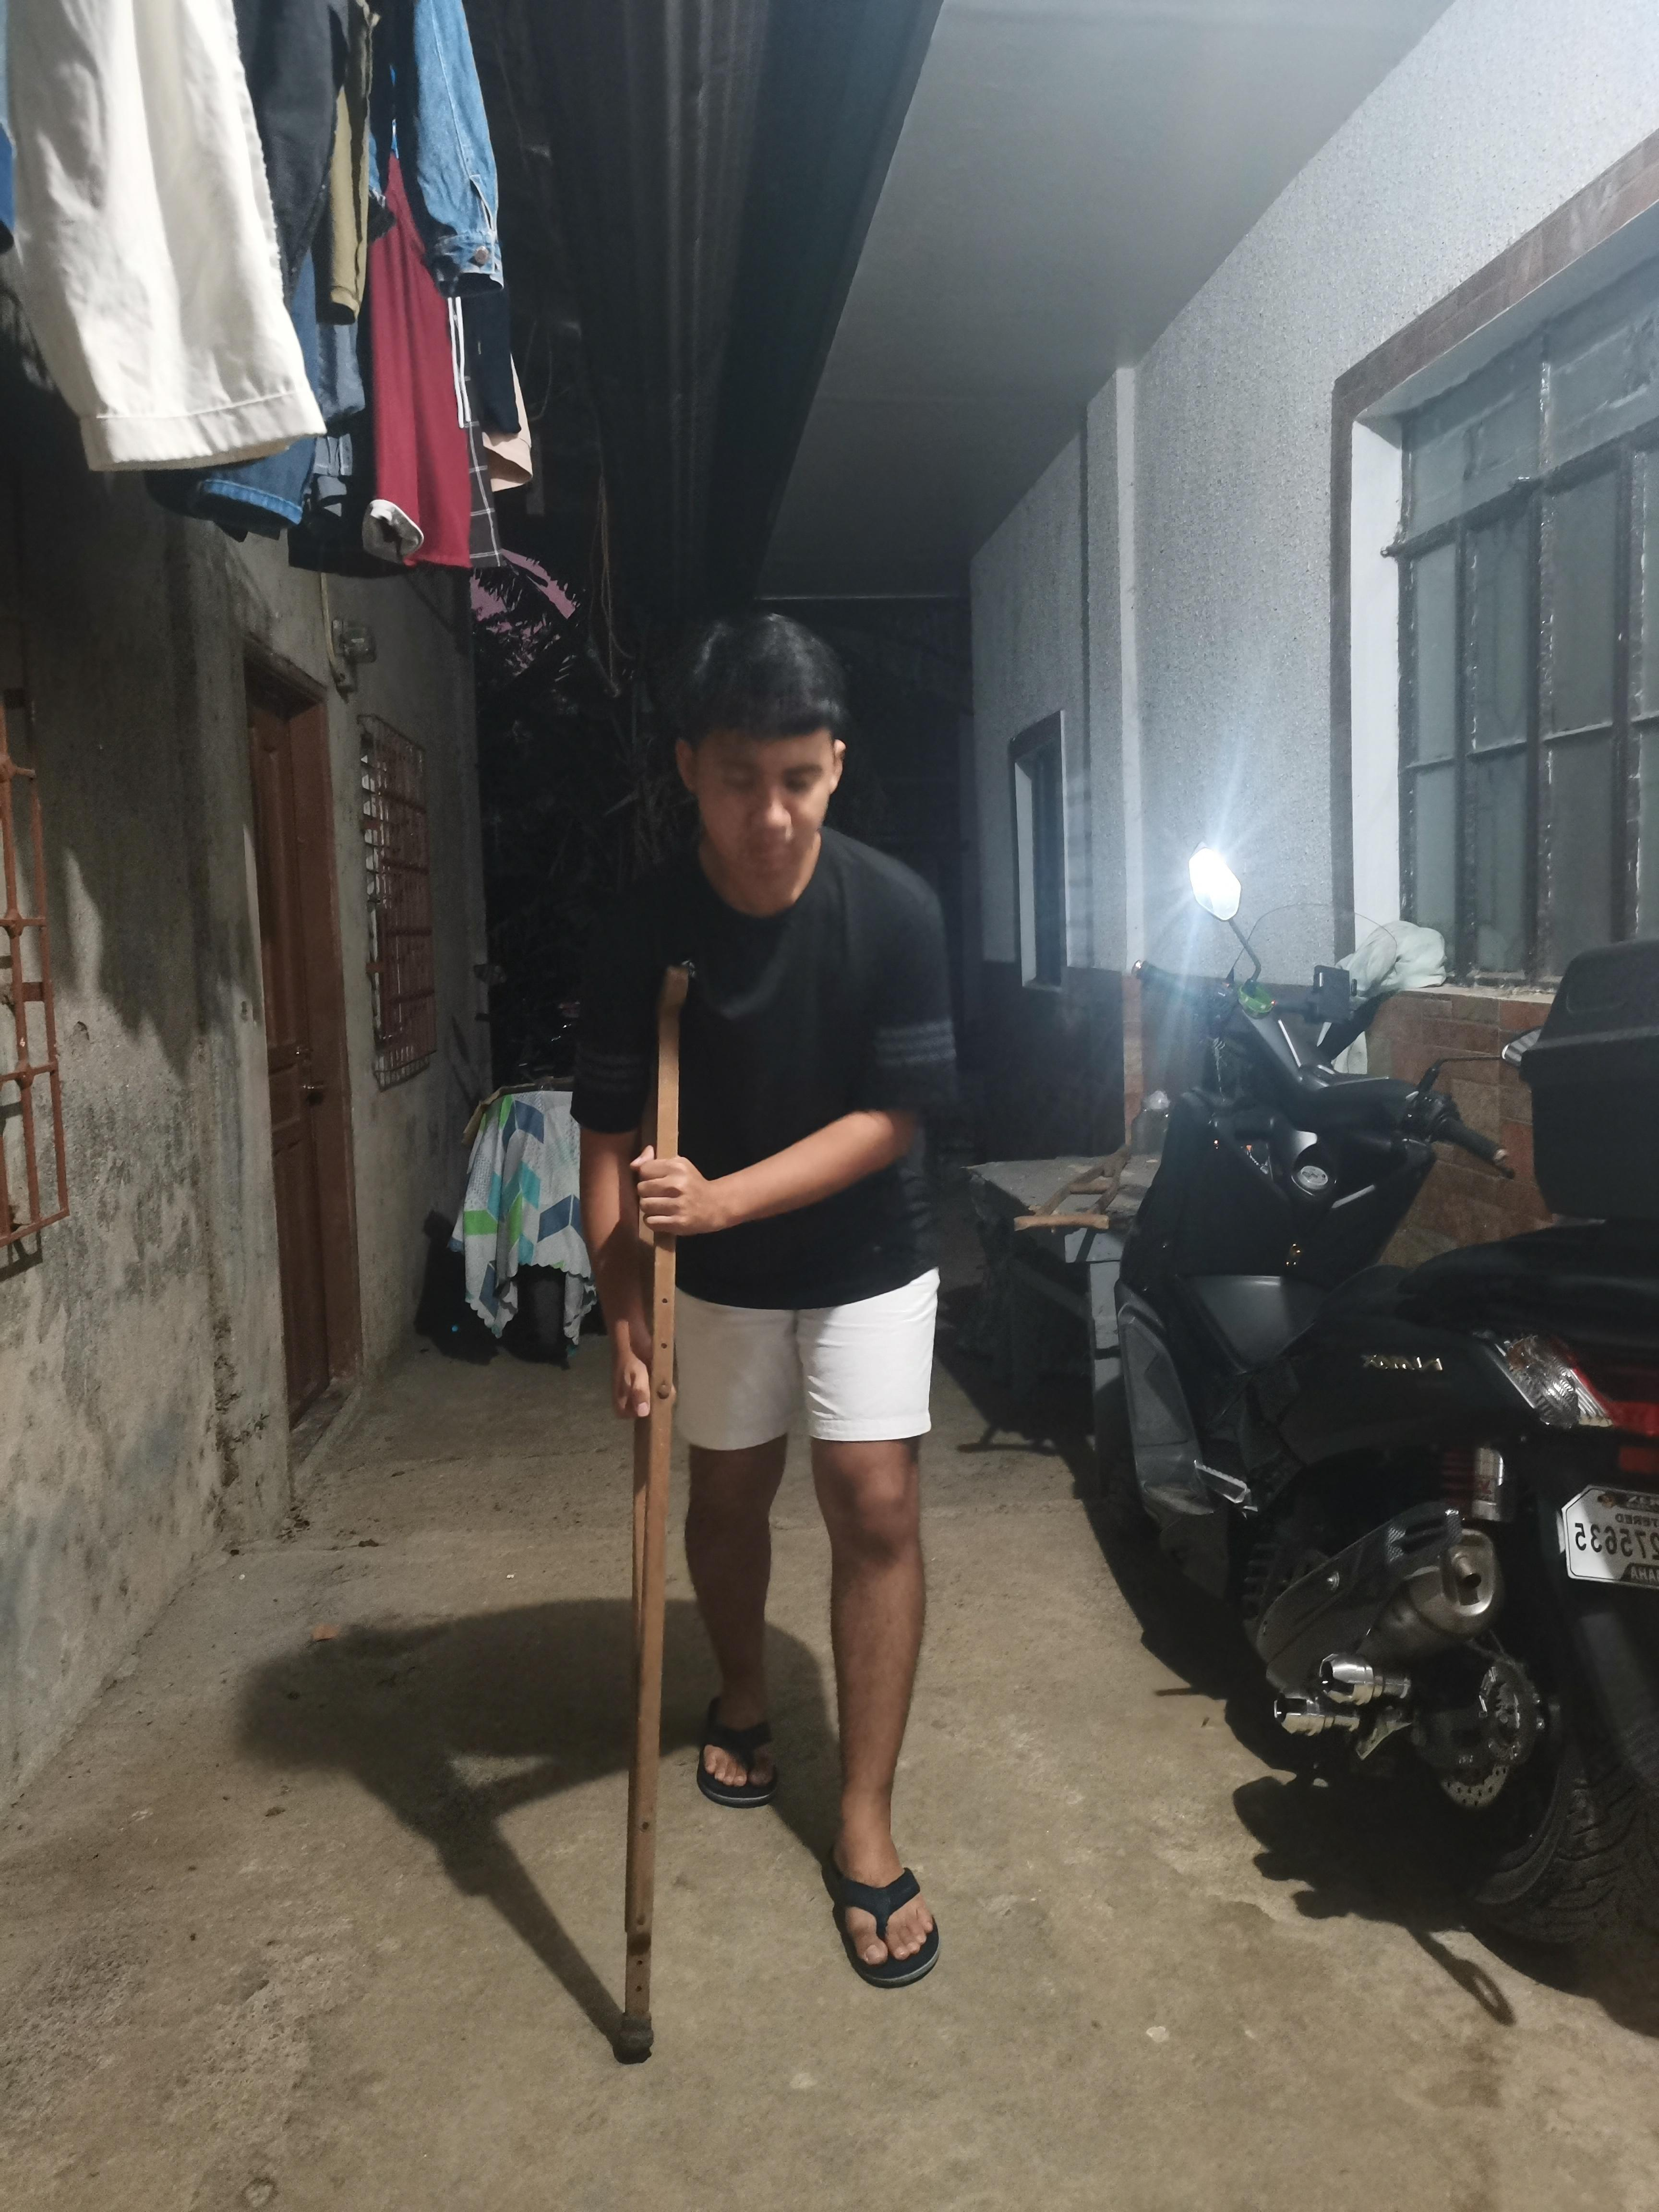crutches: (552, 568, 979, 2069)
